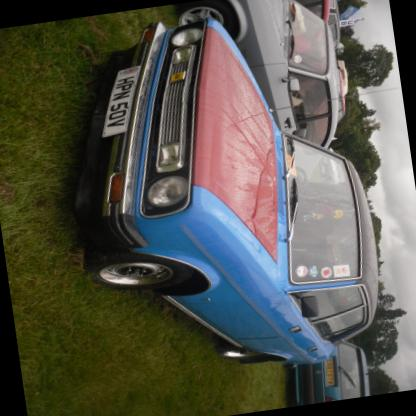Car: (54, 0, 396, 396), (172, 0, 354, 191), (274, 330, 378, 408), (279, 0, 342, 61)
